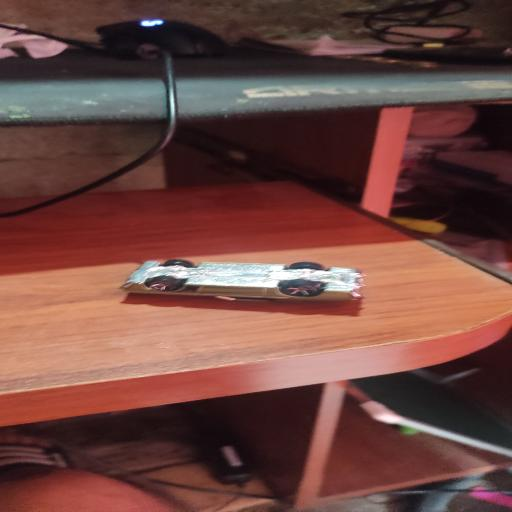Carrito: (121, 260, 364, 302)
